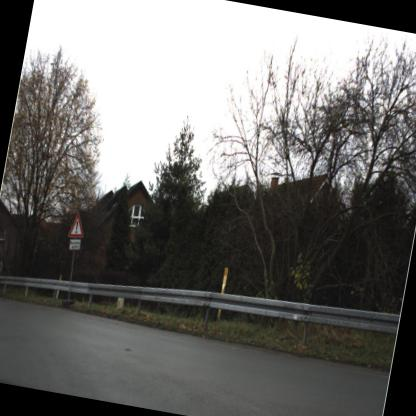danger: (61, 206, 90, 242)
